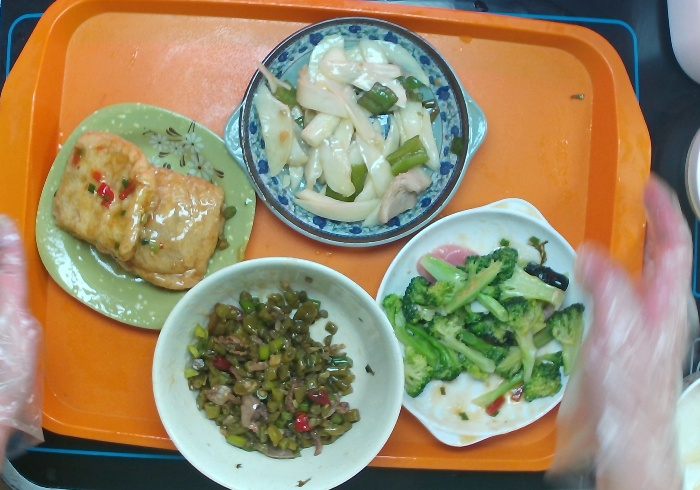NLDX-Bai_Se_Shuang_Er_Die: (372, 193, 598, 452)
NLDX-Bai_Se_Yuan_Wan: (147, 252, 407, 490)
NLDX-Lv_Hua_Fang_Die: (32, 100, 260, 334)
NLDX-Qing_Hua_Shuang_Er_Die: (221, 13, 491, 251)
